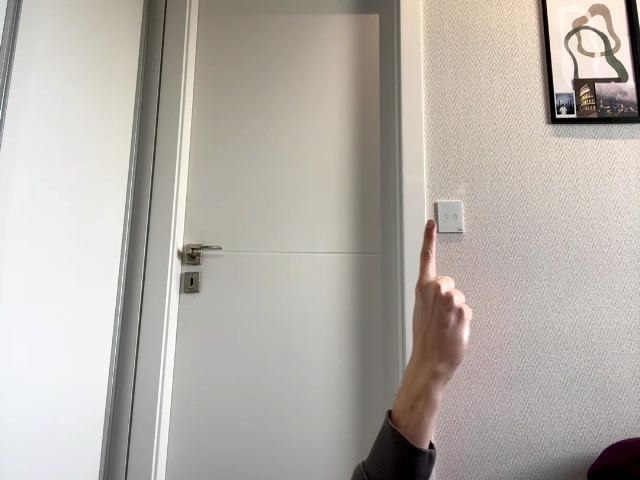D: (412, 220, 474, 388)
